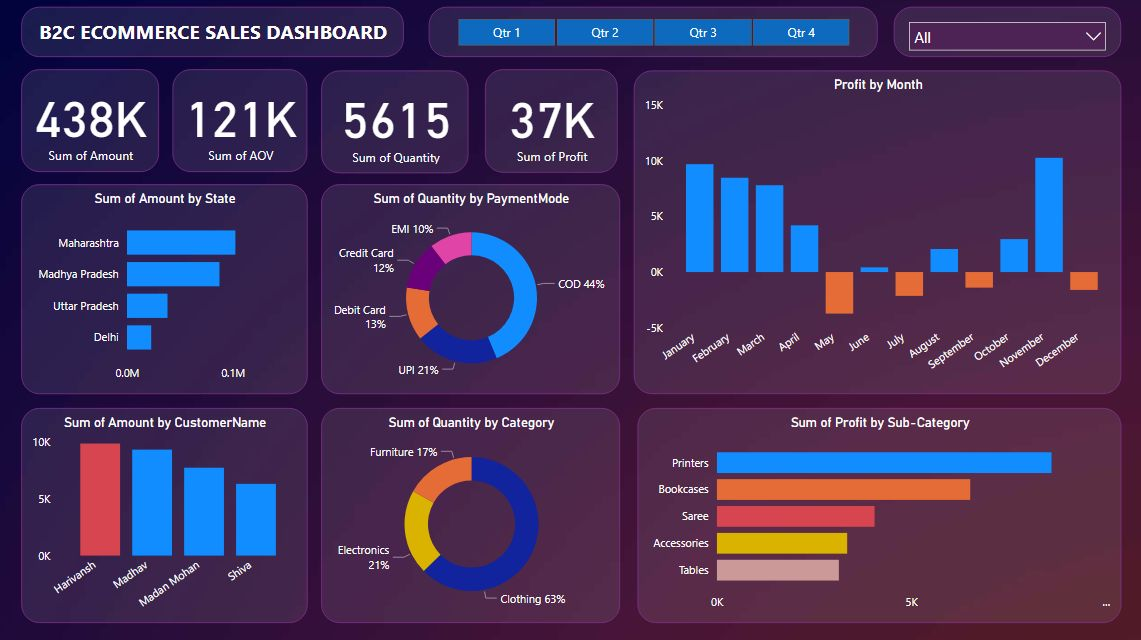

What the dashboard file says about the page in this screenshot:
{"tool":"powerbi","page":{"name":"Page 1","canvas":[1280,720],"ordinal":0},"visuals":[{"type":"textbox","box":[34.3,15.1,419.9,54.9],"z":0},{"type":"columnChart","title":"Profit by Month","fields":{"Category":["Orders.Order Date.Variation.Date Hierarchy.Month"],"Y":["Details.Profit"]},"box":[706.7,85.1,535.2,355.4],"z":1000},{"type":"barChart","fields":{"Category":["Details.Sub-Category"],"Y":["Details.Profit"]},"box":[710.8,455.6,531,236],"z":2000},{"type":"donutChart","fields":{"Category":["Details.Category"],"Y":["Details.Quantity"]},"box":[363.6,455.6,328,236],"z":3000},{"type":"donutChart","fields":{"Category":["Details.PaymentMode","Details.Category"],"Y":["Details.Quantity"]},"box":[363.6,209.9,328,230.5],"z":4000},{"type":"card","fields":{"Values":["Details.Amount"]},"box":[34.3,83.7,150.9,112.5],"z":5000},{"type":"card","fields":{"Values":["Details.Quantity"]},"box":[363.6,85.1,161.9,112.5],"z":6000},{"type":"card","fields":{"Values":["Details.Profit"]},"box":[543.4,83.7,145.5,113.9],"z":7000},{"type":"card","fields":{"Values":["Details.AOV"]},"box":[200.3,83.7,148.2,112.5],"z":8000},{"type":"barChart","fields":{"Category":["Orders.State"],"Y":["Details.Amount"]},"box":[34.3,209.9,314.2,230.5],"z":9000},{"type":"columnChart","fields":{"Category":["Orders.CustomerName"],"Y":["Details.Amount"]},"box":[34.3,455.6,314.2,236],"z":10000},{"type":"slicer","fields":{"Values":["Orders.Order Date.Variation.Date Hierarchy.Quarter"]},"box":[481.6,15.1,492.6,54.9],"z":11000},{"type":"slicer","fields":{"Values":["Orders.State"]},"box":[992.1,15.1,249.7,54.9],"z":12000}]}

Visuals, with their boxes in screenshot pixels (x1, y1, x2, y2), scaled from the page's 1280x720 canvas onto the 1141x640 screenshot:
textbox: bbox=(31, 13, 405, 62)
"Profit by Month" columnChart: bbox=(630, 76, 1107, 392)
barChart - Details.Sub-Category x Details.Profit: bbox=(634, 405, 1107, 615)
donutChart - Details.Category x Details.Quantity: bbox=(324, 405, 616, 615)
donutChart - Details.PaymentMode x Details.Category: bbox=(324, 187, 616, 391)
card - Details.Amount: bbox=(31, 74, 165, 174)
card - Details.Quantity: bbox=(324, 76, 468, 176)
card - Details.Profit: bbox=(484, 74, 614, 176)
card - Details.AOV: bbox=(179, 74, 311, 174)
barChart - Orders.State x Details.Amount: bbox=(31, 187, 311, 391)
columnChart - Orders.CustomerName x Details.Amount: bbox=(31, 405, 311, 615)
slicer - Orders.Order Date.Variation.Date Hierarchy.Quarter: bbox=(429, 13, 868, 62)
slicer - Orders.State: bbox=(884, 13, 1107, 62)
